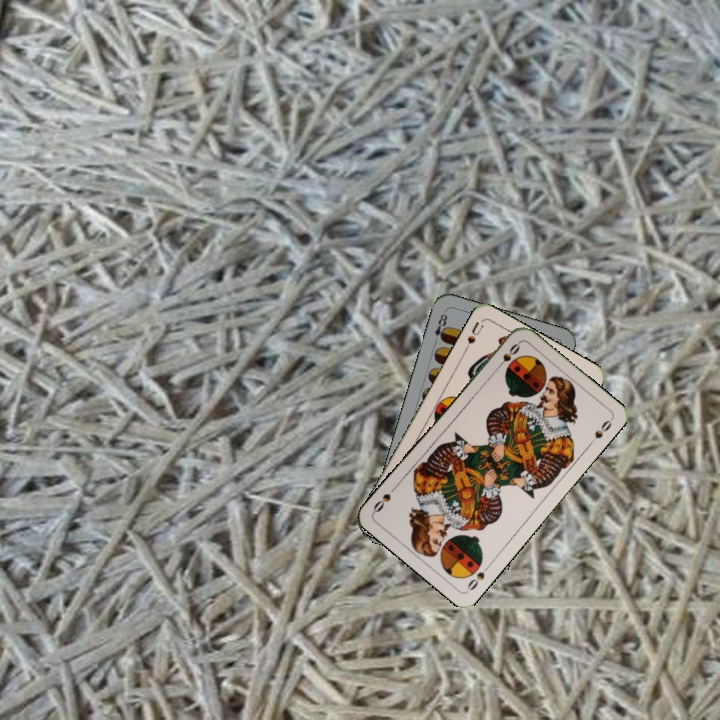E8: (430, 309, 450, 347)
SO: (492, 338, 523, 373), (463, 560, 493, 593)
SU: (460, 317, 486, 354)
